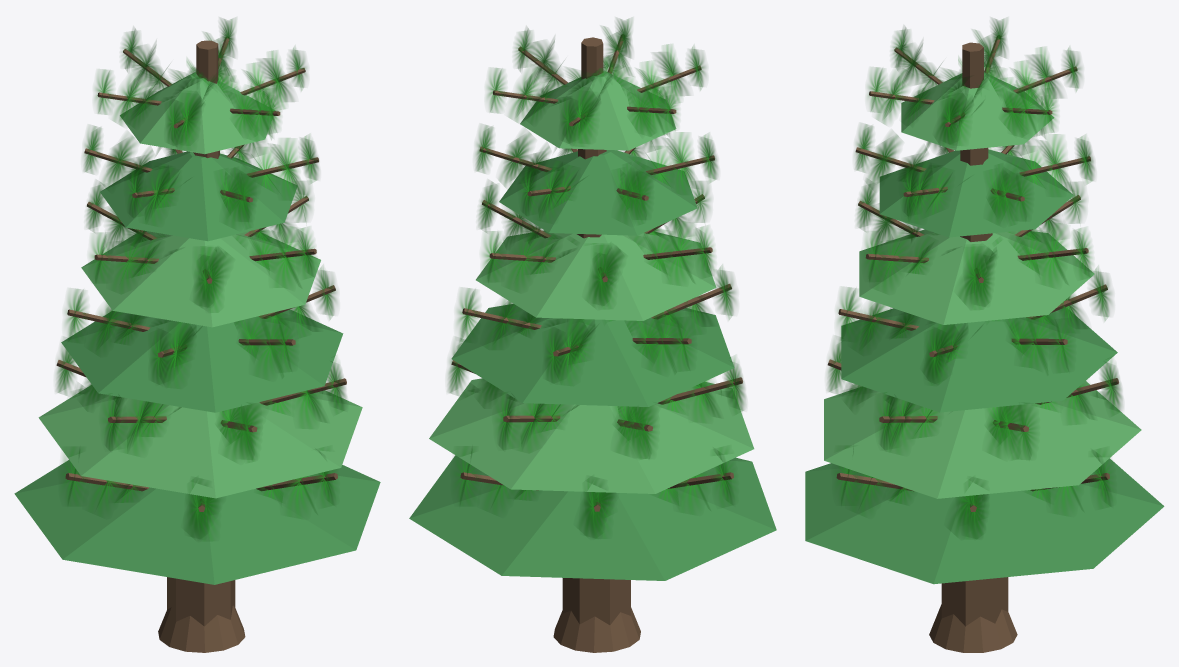
Rendered from pine_lod.glb.
3 views of the same model, side by side, from view 1: azimuth 30°, elevation 25°; view 2: azimuth 150°, elevation 25°; view 3: azimuth 270°, elevation 25° (orthographic).
Visible parts, largest first — view 1: Plane.299; view 2: Plane.299; view 3: Plane.299.
Boxes of the visible parts, x1,y1,x2,y2 form: Plane.299: (14, 18, 380, 652); Plane.299: (409, 18, 776, 652); Plane.299: (805, 18, 1164, 652).
Bounding box in the file's own units: 4.83 × 8.53 × 4.7.
Materials: 4 (1 with a texture image).
